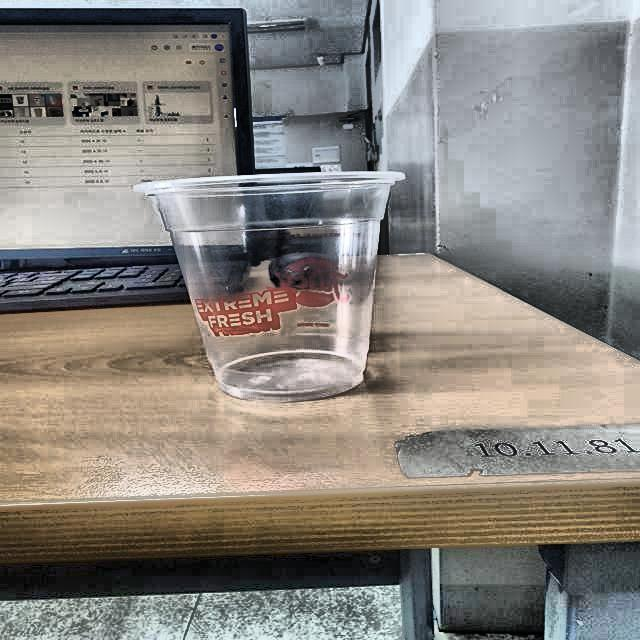plastic cup: (132, 168, 411, 400)
